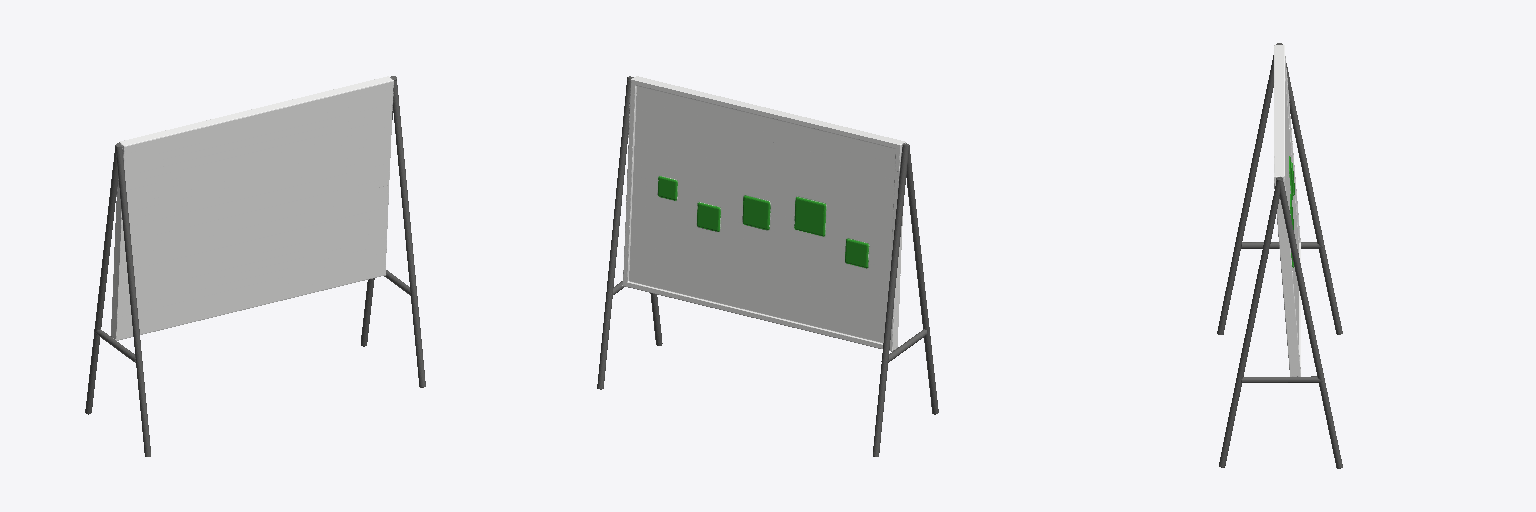
3 renders of one model, left to right at view 1: azimuth 30°, elevation 25°; view 2: azimuth 150°, elevation 25°; view 3: azimuth 270°, elevation 25°, orthographic.
Visible parts, largest first — view 1: 282295_23_05_25_14_30_17_0; view 2: 282295_23_05_25_14_30_17_0; view 3: 282295_23_05_25_14_30_17_0.
Part boxes in pixels (left/top/right/bottom): 282295_23_05_25_14_30_17_0: left=85, top=76, right=425, bottom=456; 282295_23_05_25_14_30_17_0: left=597, top=76, right=938, bottom=456; 282295_23_05_25_14_30_17_0: left=1217, top=43, right=1342, bottom=468.
Size of the model in its own units: 5.84 by 5.78 by 2.27.
1 materials, 1 textured.